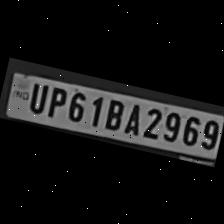1: (83, 91, 107, 127)
2: (139, 102, 166, 140)
6: (63, 86, 90, 124), (178, 110, 204, 146)
9: (196, 114, 224, 151), (158, 107, 182, 142)
A: (120, 100, 146, 136)
B: (100, 94, 127, 132)
P: (43, 82, 69, 119)
U: (24, 78, 50, 113)
